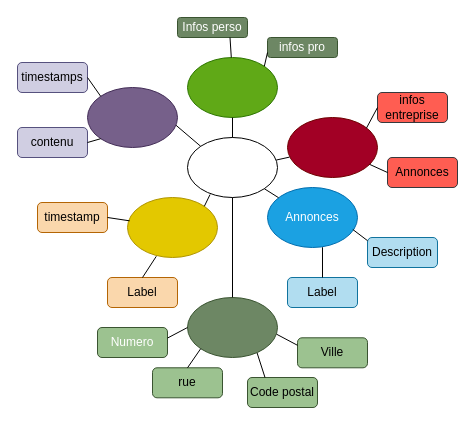
Some shapes in this 475 by 425 pixel diagram are drawn without their labels. Each missing label, with the centre of its shape:
"adresse" goes at (x=232, y=327).
"BDD ALT'IZY" goes at (x=232, y=167).
"Echange" goes at (x=172, y=227).
"Entreprises" goes at (x=332, y=147).
"Etudiants" goes at (x=232, y=87).
"Messages" goes at (x=132, y=117).
